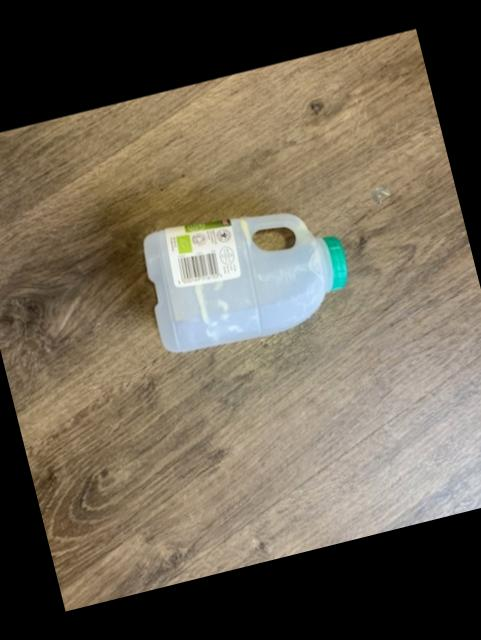plastic: (144, 211, 347, 350)
